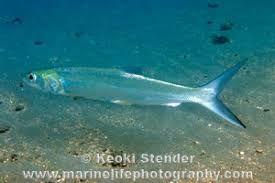Tenpounder: (19, 54, 258, 132)
